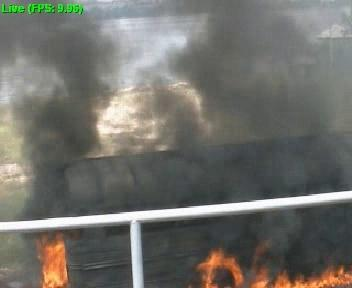fire: (200, 255, 352, 288), (38, 235, 68, 287)
smoke: (186, 6, 342, 245), (11, 5, 99, 238)
